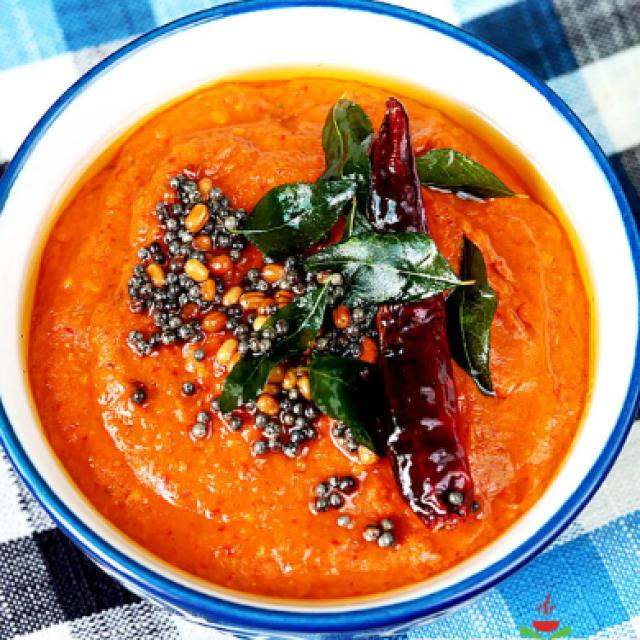tomato chutney: (47, 71, 578, 588)
